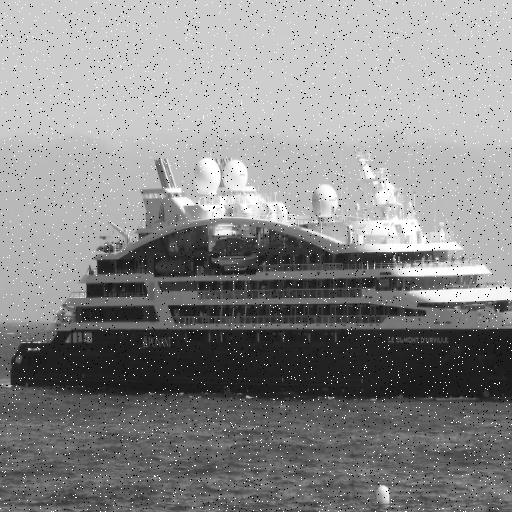cruises: (4, 146, 512, 409)
